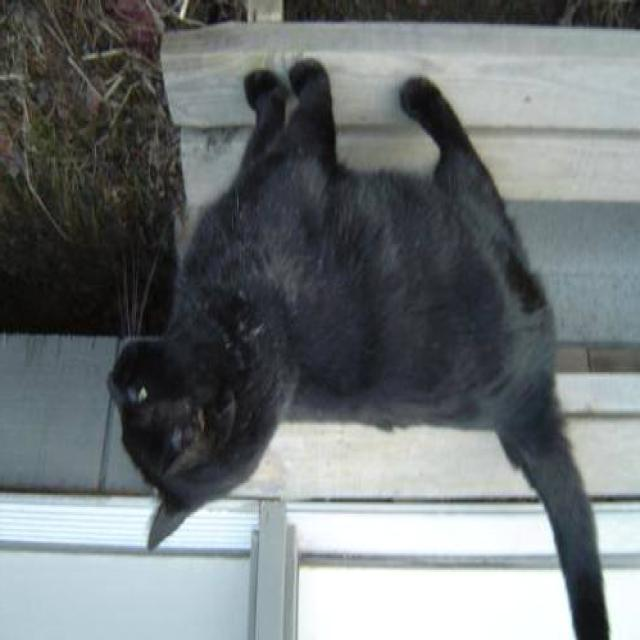Kucing: (72, 39, 634, 633)
